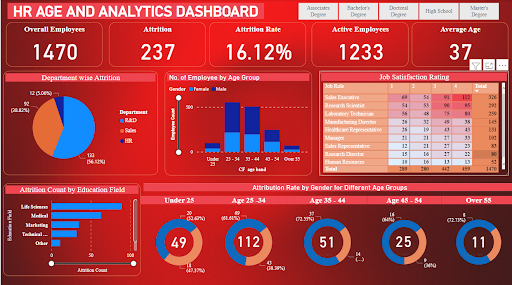

What the dashboard file says about the page in this screenshot:
{"tool":"powerbi","page":{"name":"Page 1","canvas":[1280,720],"ordinal":0},"visuals":[{"type":"card","title":"Overall Employees","fields":{"Values":["Sum(HR data.Employee Count)"]},"box":[13.7,54.9,239,109.9],"z":0},{"type":"card","title":"Attrition","fields":{"Values":["Sum(HR data.Attrition Count)"]},"box":[269.2,54.9,240.3,109.9],"z":1000},{"type":"card","title":"Attrition Rate","fields":{"Values":["HR data.Measure"]},"box":[519.1,54.9,240.3,109.9],"z":2000},{"type":"card","title":"Active Employees","fields":{"Values":["HR data.Active_employees"]},"box":[773.2,54.9,240.3,109.9],"z":3000},{"type":"card","title":"Average Age","fields":{"Values":["Avg(HR data.Age)"]},"box":[1021.8,54.9,240.3,109.9],"z":4000},{"type":"pieChart","title":"Department wise Attrition","fields":{"Category":["HR data.Department"],"Y":["Sum(HR data.Attrition Count)"]},"box":[5.5,175.8,384.5,258.2],"z":5000},{"type":"columnChart","title":"No. of Employee by Age Group","fields":{"Category":["HR data.CF_age band"],"Y":["Sum(HR data.Employee Count)"],"Series":["HR data.Gender"]},"box":[407.9,175.8,365.3,259.6],"z":6000},{"type":"pivotTable","title":"Job Satisfaction Rating","fields":{"Rows":["HR data.Job Role"],"Columns":["HR data.Job Satisfaction"],"Values":["Sum(HR data.Employee Count)"]},"box":[792.4,175.8,469.7,259.6],"z":7000},{"type":"barChart","fields":{"Category":["HR data.Education Field"],"Y":["Sum(HR data.Attrition Count)"]},"box":[5.5,454.6,342,230.7],"z":8000},{"type":"donutChart","title":"Under 25","fields":{"Category":["HR data.Gender"],"Y":["Sum(HR data.Attrition Count)"],"Series":["HR data.CF_age band"]},"box":[347.5,486.2,192.3,208.8],"z":9000},{"type":"textbox","title":"Attribution Rate by Gender for Different Age Groups","box":[355.7,454.6,924.3,19.2],"z":10000},{"type":"donutChart","title":"Age 25 -34","fields":{"Category":["HR data.Gender"],"Y":["Sum(HR data.Attrition Count)"],"Series":["HR data.CF_age band"]},"box":[519.1,486.2,195,208.8],"z":11000},{"type":"donutChart","title":"Age 35 - 44","fields":{"Category":["HR data.Gender"],"Y":["Sum(HR data.Attrition Count)"],"Series":["HR data.CF_age band"]},"box":[714.2,486.2,196.4,208.8],"z":12000},{"type":"donutChart","title":"Age 45 - 54","fields":{"Category":["HR data.Gender"],"Y":["Sum(HR data.Attrition Count)"],"Series":["HR data.CF_age band"]},"box":[910.6,486.2,184,208.8],"z":13000},{"type":"donutChart","title":"Over 55","fields":{"Category":["HR data.Gender"],"Y":["Sum(HR data.Attrition Count)"],"Series":["HR data.CF_age band"]},"box":[1094.6,486.2,185.4,208.8],"z":14000},{"type":"card","fields":{"Values":["Sum(HR data.Attrition Count)"]},"box":[399.7,579.6,86.5,59.1],"z":15000},{"type":"card","fields":{"Values":["Sum(HR data.Attrition Count)"]},"box":[578.2,576.8,75.5,61.8],"z":16000},{"type":"card","fields":{"Values":["Sum(HR data.Attrition Count)"]},"box":[773.2,578.2,75.5,61.8],"z":17000},{"type":"card","fields":{"Values":["Sum(HR data.Attrition Count)"]},"box":[964.1,576.8,75.5,61.8],"z":18000},{"type":"card","fields":{"Values":["Sum(HR data.Attrition Count)"]},"box":[1150.9,578.2,75.5,61.8],"z":19000},{"type":"textbox","title":"HR AGE AND  ANALYTICS DASHBOARD","box":[16.5,6.9,637.3,39.8],"z":20000},{"type":"slicer","fields":{"Values":["HR data.Education"]},"box":[714.2,0,548,54.9],"z":21000}]}

Visuals, with their boxes in screenshot pixels (x1, y1, x2, y2), scaled from the page's 1280x720 canvas onto the 512x285 screenshot:
"Overall Employees" card: (left=5, top=22, right=101, bottom=65)
"Attrition" card: (left=108, top=22, right=204, bottom=65)
"Attrition Rate" card: (left=208, top=22, right=304, bottom=65)
"Active Employees" card: (left=309, top=22, right=405, bottom=65)
"Average Age" card: (left=409, top=22, right=505, bottom=65)
"Department wise Attrition" pieChart: (left=2, top=70, right=156, bottom=172)
"No. of Employee by Age Group" columnChart: (left=163, top=70, right=309, bottom=172)
"Job Satisfaction Rating" pivotTable: (left=317, top=70, right=505, bottom=172)
barChart - HR data.Education Field x Sum(HR data.Attrition Count): (left=2, top=180, right=139, bottom=271)
"Under 25" donutChart: (left=139, top=192, right=216, bottom=275)
"Attribution Rate by Gender for Different Age Groups" textbox: (left=142, top=180, right=511, bottom=188)
"Age 25 -34" donutChart: (left=208, top=192, right=286, bottom=275)
"Age 35 - 44" donutChart: (left=286, top=192, right=364, bottom=275)
"Age 45 - 54" donutChart: (left=364, top=192, right=438, bottom=275)
"Over 55" donutChart: (left=438, top=192, right=511, bottom=275)
card - Sum(HR data.Attrition Count): (left=160, top=229, right=194, bottom=253)
card - Sum(HR data.Attrition Count): (left=231, top=228, right=261, bottom=253)
card - Sum(HR data.Attrition Count): (left=309, top=229, right=339, bottom=253)
card - Sum(HR data.Attrition Count): (left=386, top=228, right=416, bottom=253)
card - Sum(HR data.Attrition Count): (left=460, top=229, right=491, bottom=253)
"HR AGE AND  ANALYTICS DASHBOARD" textbox: (left=7, top=3, right=262, bottom=18)
slicer - HR data.Education: (left=286, top=0, right=505, bottom=22)
